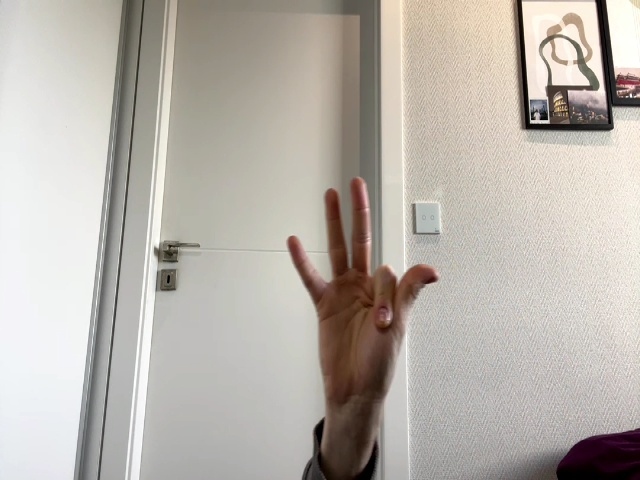F: (287, 177, 438, 394)
